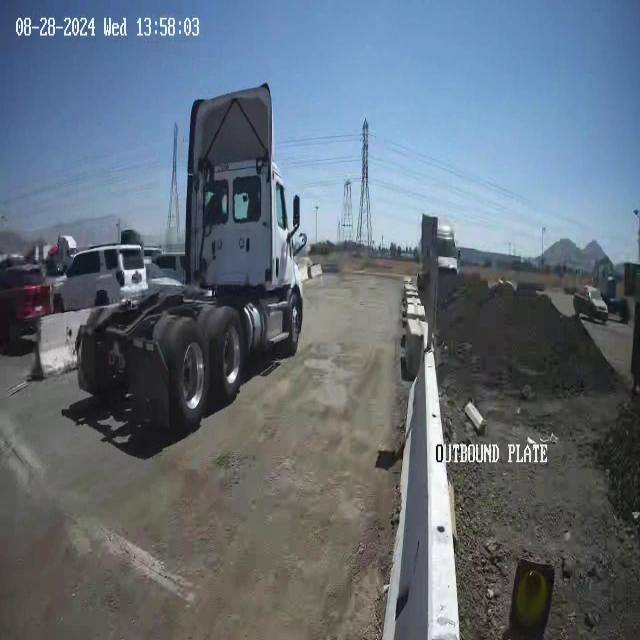TRUCK_IN: (74, 81, 306, 435)
